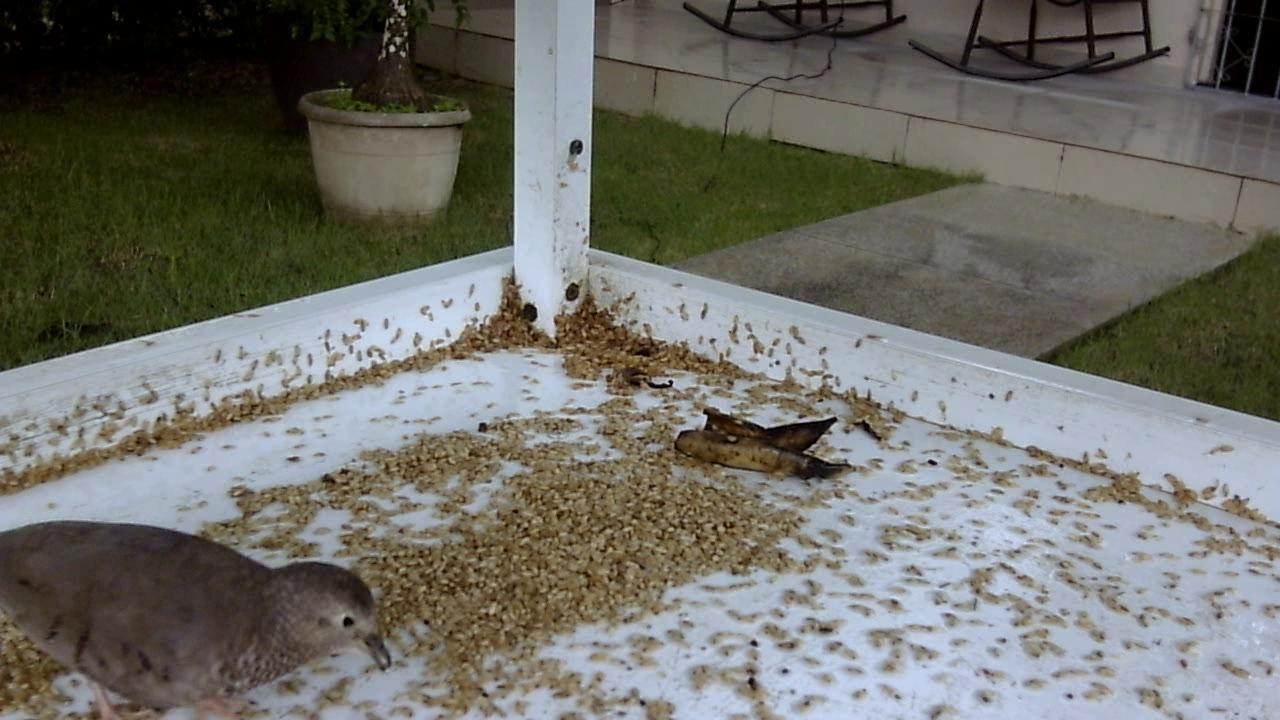rolinha: (3, 513, 400, 715)
